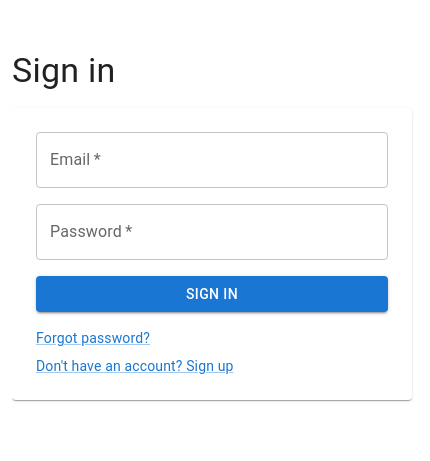
LoginPage › shows offline message when navigator is offline before submit
Type "user@example.com" into the field labelled "Email *" at (212, 160), box x1=36 y1=132 x2=388 y2=188
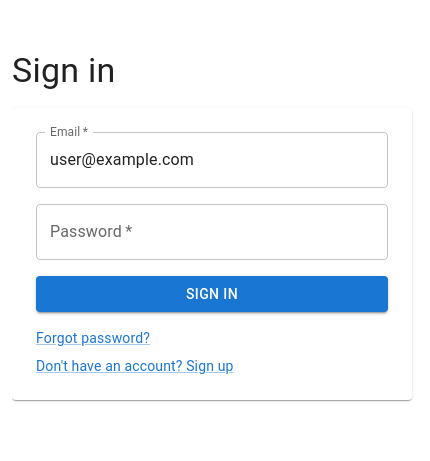
Type "password1" into the password field labelled "Password *" at (212, 232), box x1=36 y1=204 x2=388 y2=260
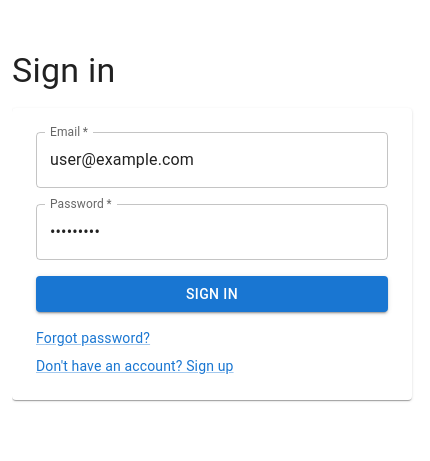
Submit the form from the button "Sign in", box x1=36 y1=276 x2=388 y2=312
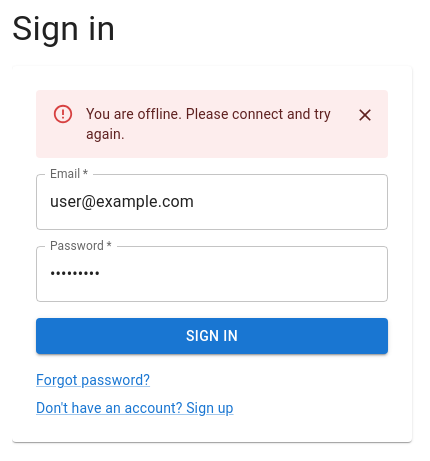
Now the text "You are offline. Please connect and try again." is shown, box x1=86 y1=96 x2=334 y2=152
